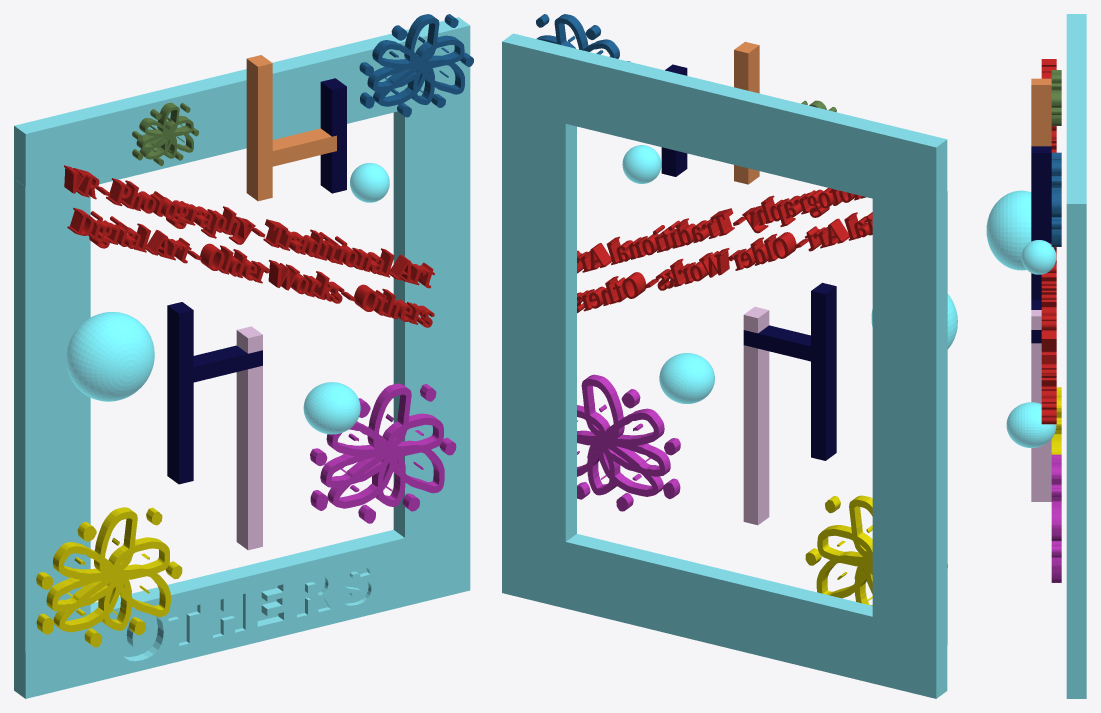
The model's file is frame_O.glb.
3 views of the same model, side by side, from view 1: azimuth 30°, elevation 25°; view 2: azimuth 150°, elevation 25°; view 3: azimuth 270°, elevation 25° (orthographic). The views are drawn at different scales.
Parts seen in each view (by area): view 1: group_0_14860437, group_0_15277357, group_0_16768282, group_0_-1032466725, group_0_14093196, group_0_3888547, group_0_8768998, group_0_16089887, group_0_15708628, group_0_4634441; view 2: group_0_14860437, group_0_15277357, group_0_14093196, group_0_3888547, group_0_15708628, group_0_-1032466725, group_0_16768282, group_0_8768998, group_0_16089887; view 3: group_0_14860437, group_0_-1032466725, group_0_15277357, group_0_3888547, group_0_15708628, group_0_16089887, group_0_14093196, group_0_8768998, group_0_4634441, group_0_16768282.
Boxes of the visible parts, left/top/right/bottom form: group_0_14860437: left=14, top=17, right=470, bottom=698; group_0_15277357: left=64, top=165, right=434, bottom=327; group_0_16768282: left=36, top=507, right=182, bottom=647; group_0_-1032466725: left=66, top=163, right=389, bottom=434; group_0_14093196: left=310, top=383, right=456, bottom=523; group_0_3888547: left=167, top=78, right=346, bottom=484; group_0_8768998: left=359, top=14, right=473, bottom=117; group_0_16089887: left=246, top=55, right=336, bottom=201; group_0_15708628: left=236, top=326, right=262, bottom=550; group_0_4634441: left=132, top=102, right=198, bottom=165; group_0_14860437: left=502, top=33, right=947, bottom=698; group_0_15277357: left=577, top=188, right=872, bottom=313; group_0_14093196: left=577, top=374, right=680, bottom=511; group_0_3888547: left=661, top=64, right=836, bottom=460; group_0_15708628: left=743, top=306, right=769, bottom=525; group_0_-1032466725: left=622, top=145, right=957, bottom=403; group_0_16768282: left=805, top=495, right=947, bottom=605; group_0_8768998: left=536, top=14, right=630, bottom=61; group_0_16089887: left=734, top=41, right=759, bottom=184; group_0_14860437: left=1066, top=14, right=1086, bottom=698; group_0_-1032466725: left=986, top=190, right=1056, bottom=447; group_0_15277357: left=1041, top=59, right=1056, bottom=424; group_0_3888547: left=1031, top=146, right=1051, bottom=343; group_0_15708628: left=1031, top=310, right=1051, bottom=501; group_0_16089887: left=1031, top=78, right=1051, bottom=146; group_0_14093196: left=1051, top=454, right=1061, bottom=582; group_0_8768998: left=1051, top=152, right=1061, bottom=246; group_0_4634441: left=1051, top=70, right=1061, bottom=125; group_0_16768282: left=1051, top=387, right=1061, bottom=454.
Size of the model in its own units: 90 by 115 by 20.
